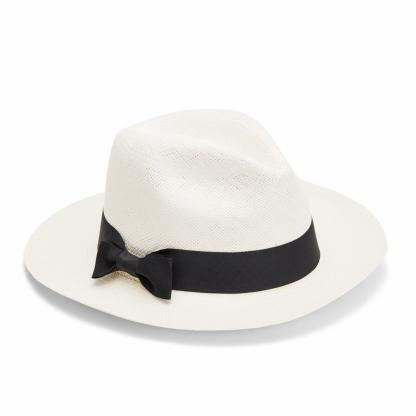hat: (20, 106, 392, 338)
